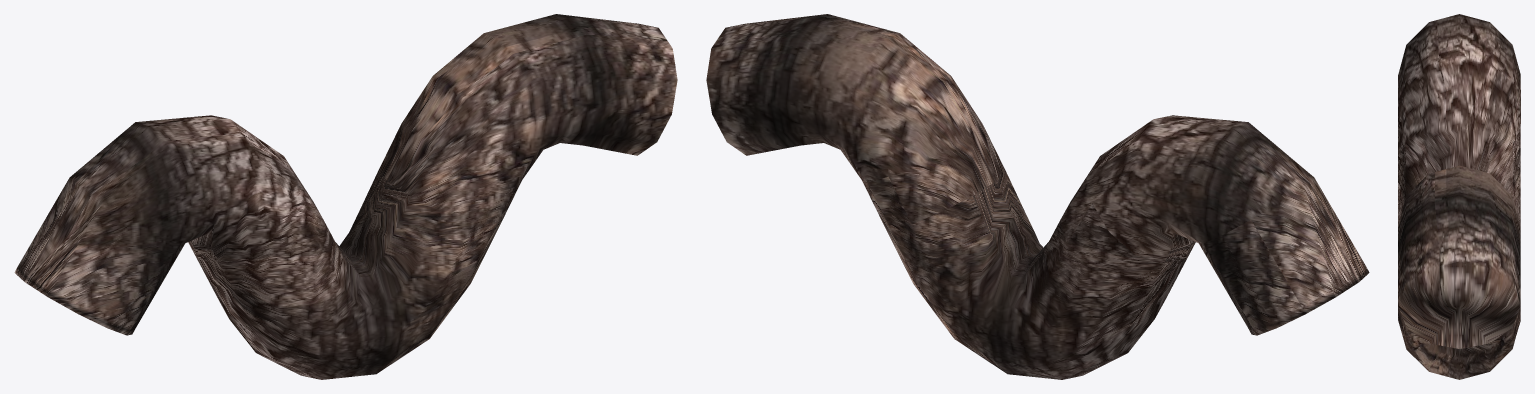
File: RootObstacle.obj
3 renders of one model, left to right at view 1: azimuth 30°, elevation 25°; view 2: azimuth 150°, elevation 25°; view 3: azimuth 270°, elevation 25°, orthographic. The views are drawn at different scales.
Visible parts, largest first — view 1: RootMesh; view 2: RootMesh; view 3: RootMesh.
Boxes of the visible parts, x1,y1,x2,y2 form: RootMesh: [14, 14, 677, 379]; RootMesh: [706, 14, 1369, 379]; RootMesh: [1398, 14, 1520, 379].
Size of the model in its own units: 30.47 by 13.77 by 5.6.
